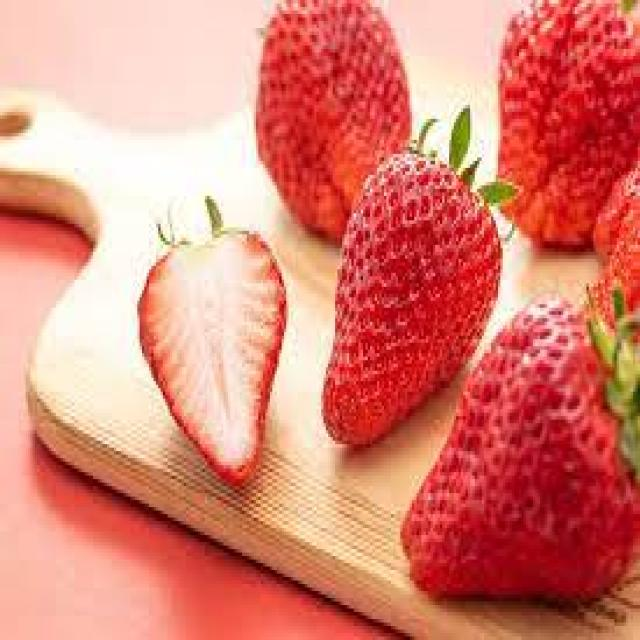strawberry: (394, 294, 640, 603), (322, 115, 502, 444), (137, 205, 287, 504), (484, 0, 640, 244), (250, 0, 410, 223)
